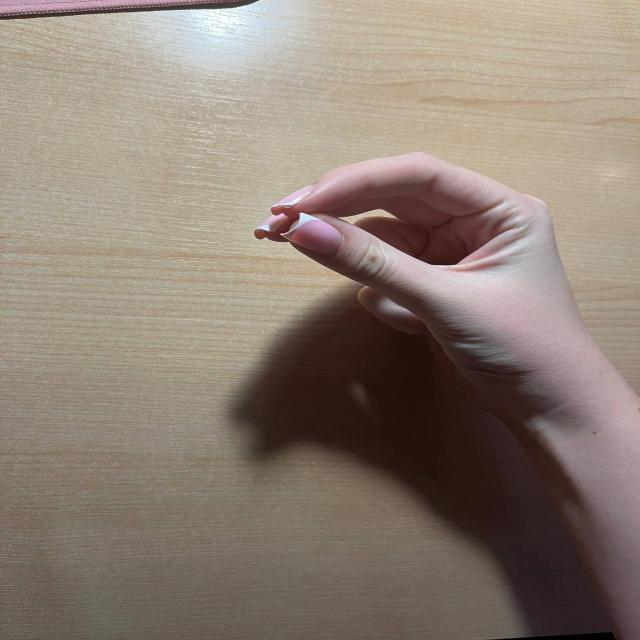ch: (227, 142, 620, 388)
